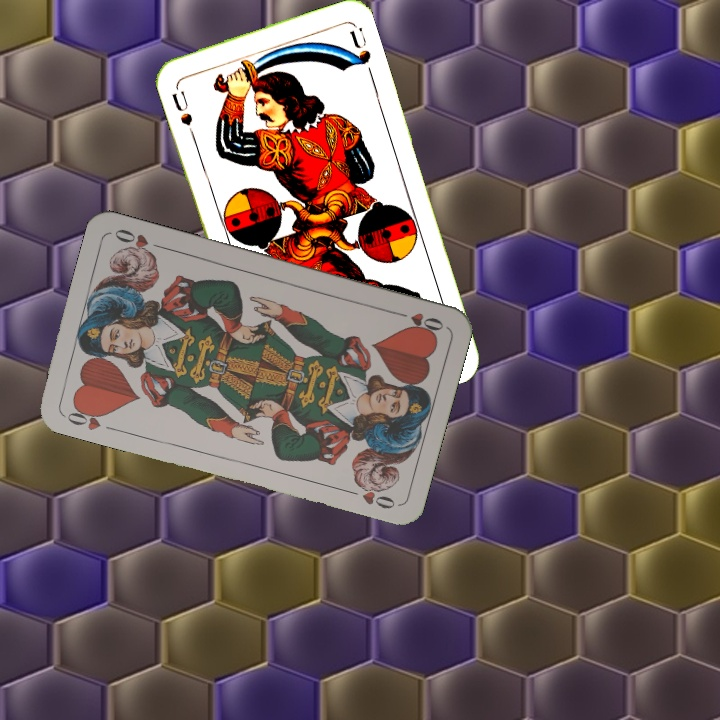HO: (60, 401, 110, 433), (389, 307, 446, 335)
SU: (167, 79, 197, 137)
